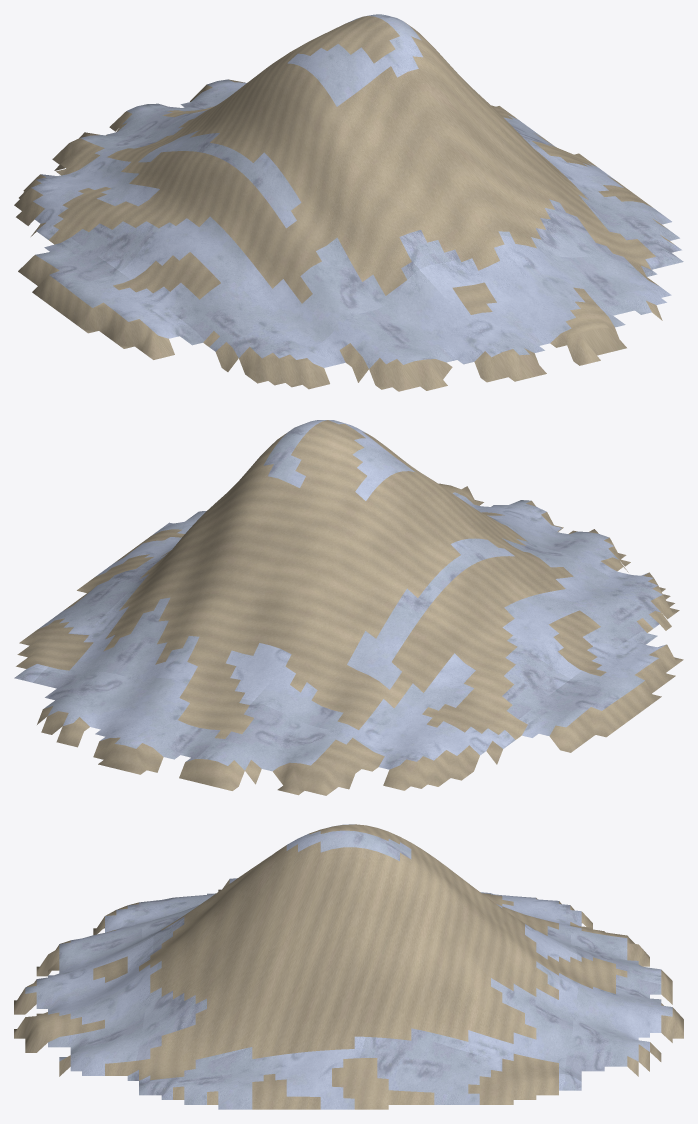
Rendered from border_dune_c_v5_winter.glb.
3 renders of one model, top to bottom at view 1: azimuth 30°, elevation 25°; view 2: azimuth 150°, elevation 25°; view 3: azimuth 270°, elevation 25°, orthographic. The views are drawn at different scales.
Visible parts, largest first — view 1: border_dune_c; view 2: border_dune_c; view 3: border_dune_c.
Boxes of the visible parts, left/top/right/bottom form: border_dune_c: left=14, top=14, right=683, bottom=391; border_dune_c: left=14, top=420, right=683, bottom=795; border_dune_c: left=14, top=824, right=683, bottom=1109.
Size of the model in its own units: 0.8772 by 0.3301 by 1.04.
Materials: 2 (2 with a texture image).
